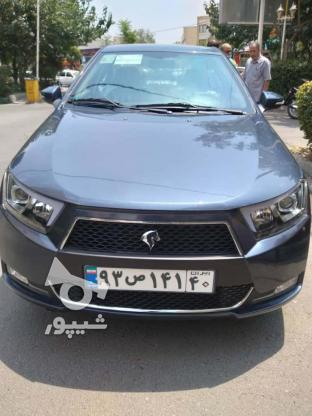car: (86, 269, 217, 292)
